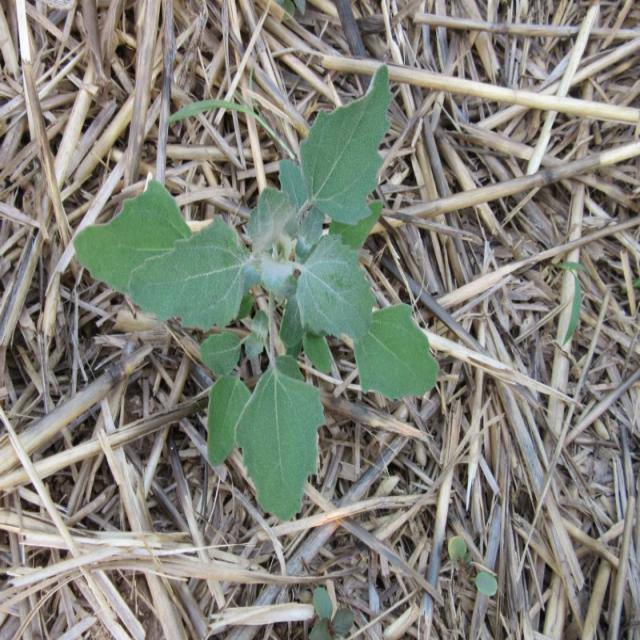ca: (79, 67, 440, 517)
